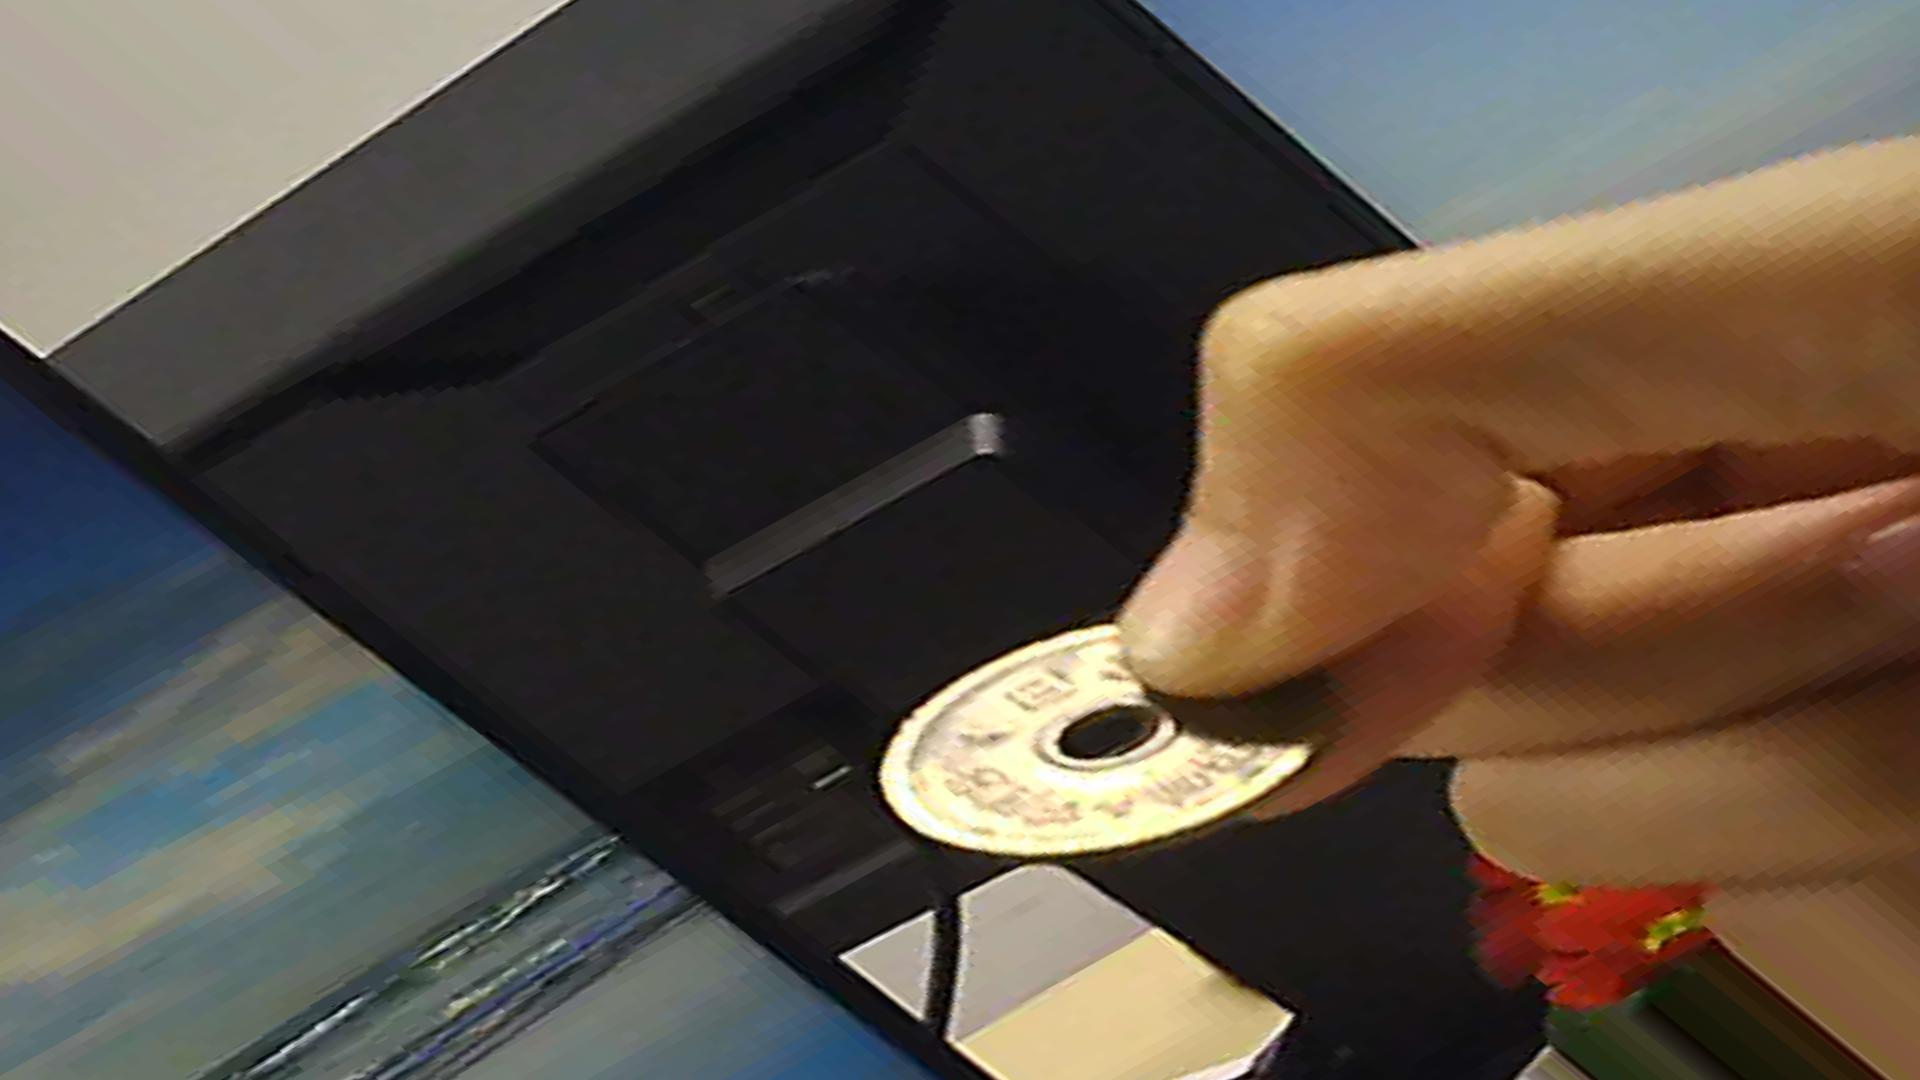5 Yen: (882, 632, 1284, 851)
